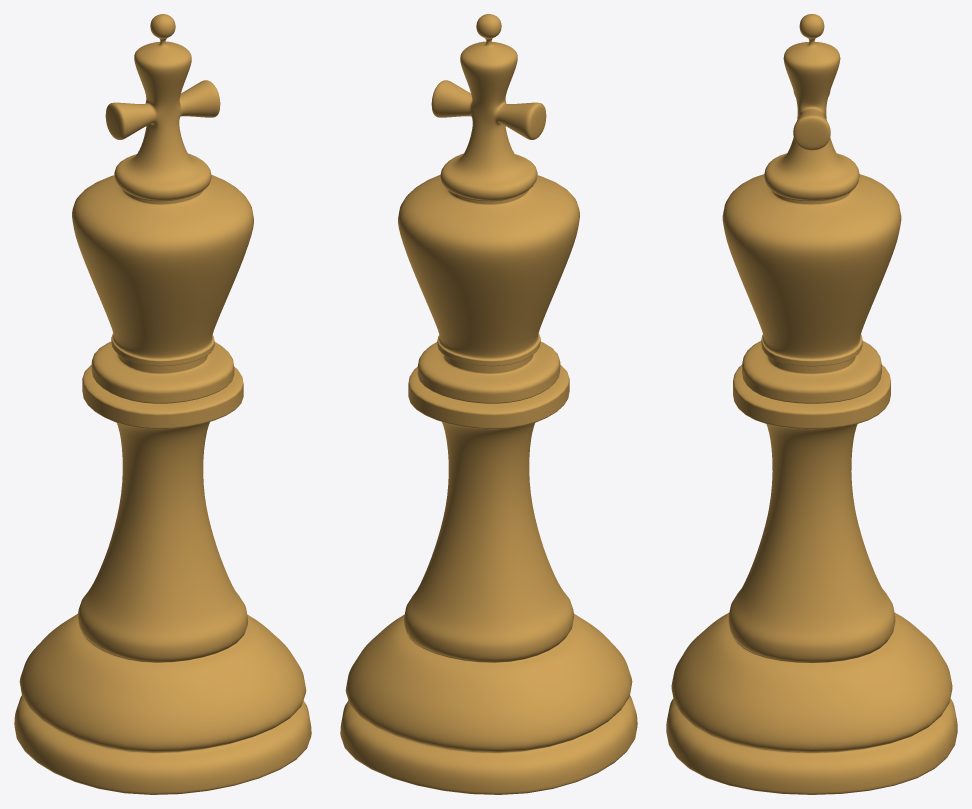
File: king.obj
3 renders of one model, left to right at view 1: azimuth 30°, elevation 25°; view 2: azimuth 150°, elevation 25°; view 3: azimuth 270°, elevation 25°, orthographic.
Parts seen in each view (by area): view 1: roi.003; view 2: roi.003; view 3: roi.003.
Boxes of the visible parts, x1,y1,x2,y2 form: roi.003: (14,14,311,794); roi.003: (340,14,637,794); roi.003: (666,14,957,794).
Size of the model in its own units: 0.4069 by 1.11 by 0.4069.
